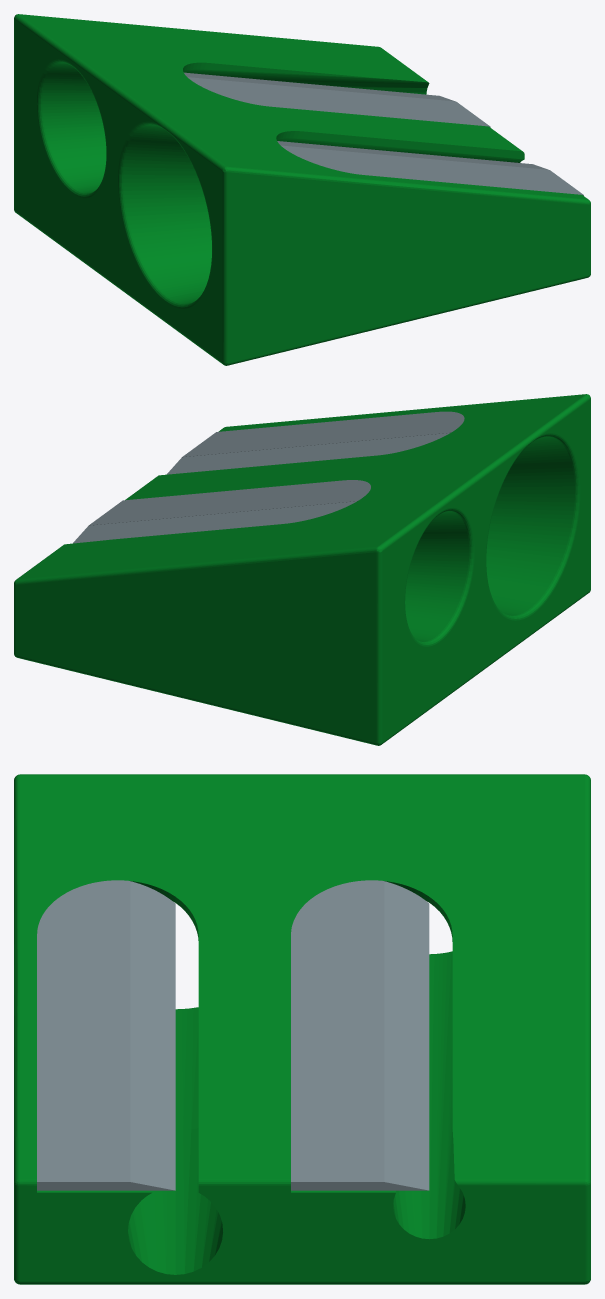
The model's file is Pencil Sharperner.fbx.
The picture shows the model from 3 angles, top to bottom: view 1: azimuth 30°, elevation 25°; view 2: azimuth 150°, elevation 25°; view 3: azimuth 270°, elevation 25°; orthographic projection. The views are drawn at different scales.
Visible parts, largest first — view 1: object_13; view 2: object_13; view 3: object_13.
Part boxes in pixels (box(x1,y1,x2,y2)): object_13: box(14, 14, 590, 365); object_13: box(14, 394, 590, 745); object_13: box(14, 774, 590, 1284).
Size of the model in its own units: 11.45 by 5.91 by 11.45.
